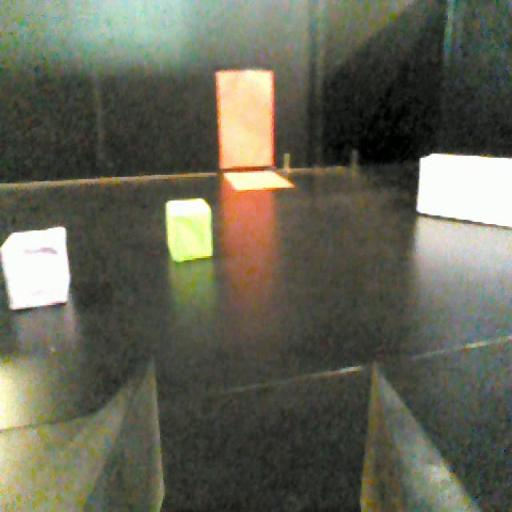cube: (0, 230, 73, 307), (160, 197, 219, 265)
